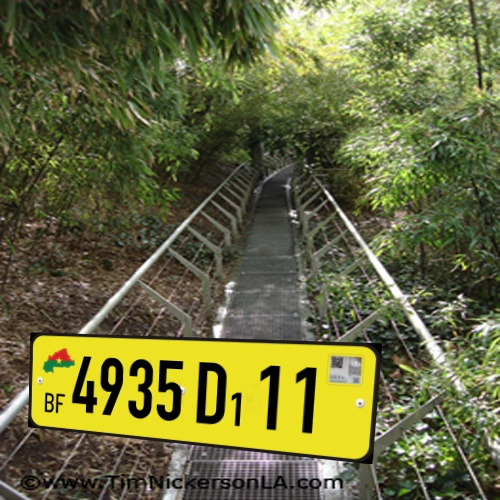plate: (18, 318, 396, 470)
